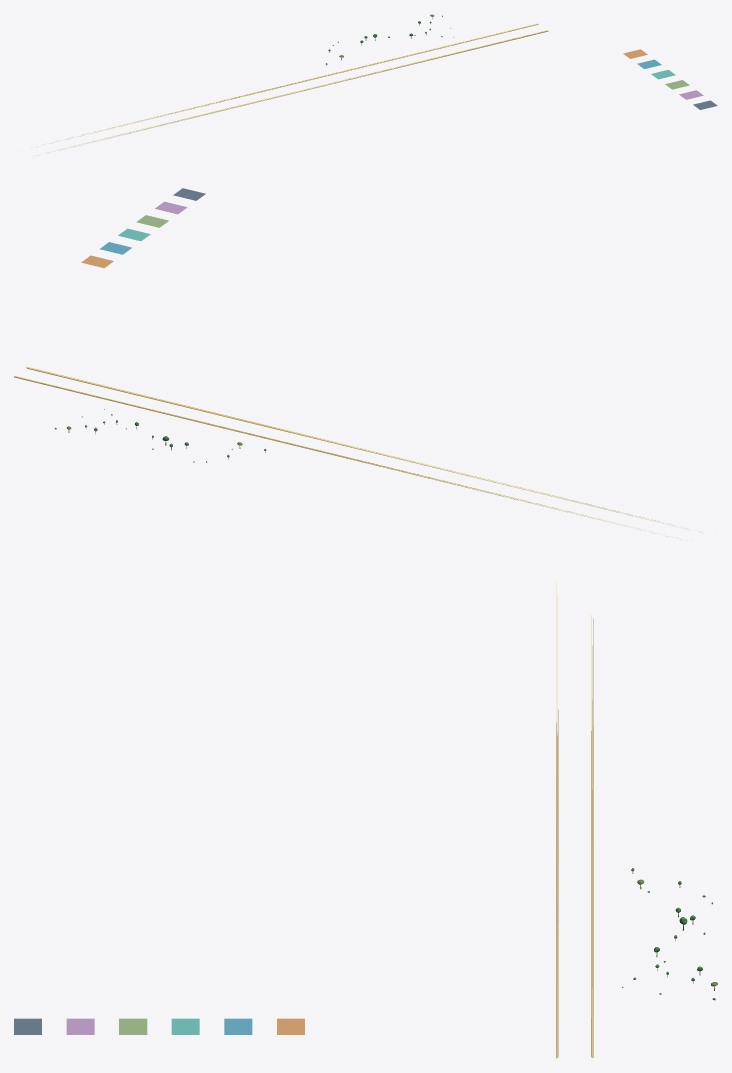
File: cell_6_-1_full.gltf
3 views of the same model, one above another, from view 1: azimuth 30°, elevation 25°; view 2: azimuth 150°, elevation 25°; view 3: azimuth 270°, elevation 25° (orthographic). The views are drawn at different scales.
Parts seen in each view (by area): view 1: EKITI_COASTAL_SETBACK_GUIDE_V1; view 2: EKITI_COASTAL_SETBACK_GUIDE_V1; view 3: EKITI_COASTAL_SETBACK_GUIDE_V1.
Boxes of the visible parts, bbox=[...] form: EKITI_COASTAL_SETBACK_GUIDE_V1: bbox=[31, 23, 548, 152]; EKITI_COASTAL_SETBACK_GUIDE_V1: bbox=[14, 367, 708, 537]; EKITI_COASTAL_SETBACK_GUIDE_V1: bbox=[556, 582, 593, 1058].
Bounding box in the file's own units: 683 × 29.87 × 402.
